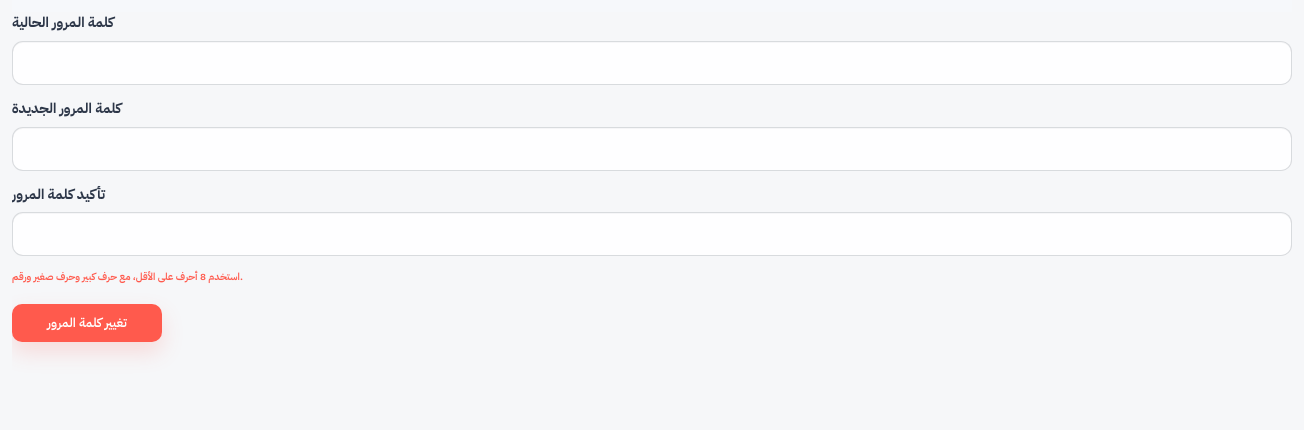
ChangePasswordForm › shows a specific Arabic error for an incorrect current password
In the password field labelled "كلمة المرور الحالية": (652, 63) [12, 41, 1292, 85], type "WrongPass123"
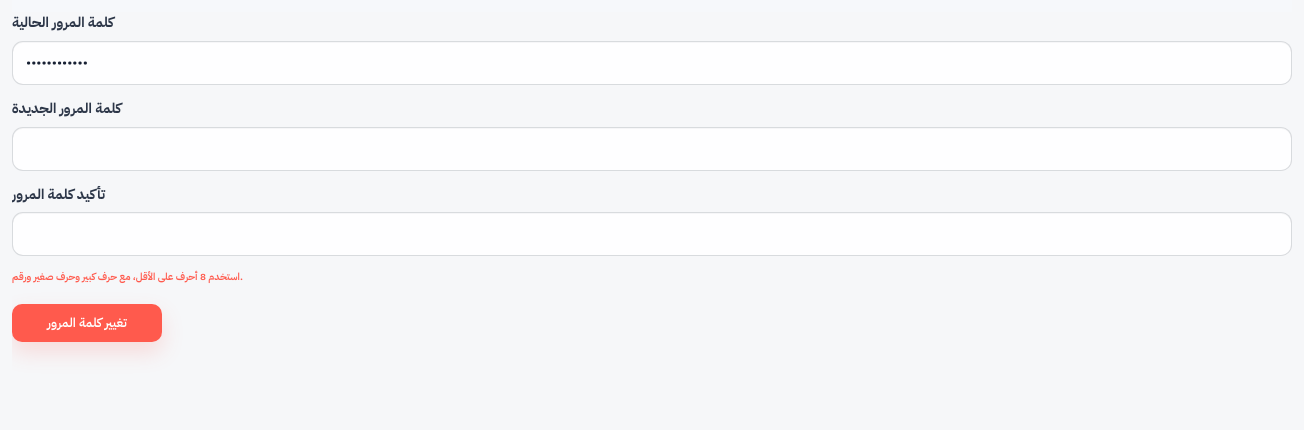
In the password field labelled "كلمة المرور الجديدة": (652, 149) [12, 126, 1292, 171], type "UpdatedPass456"
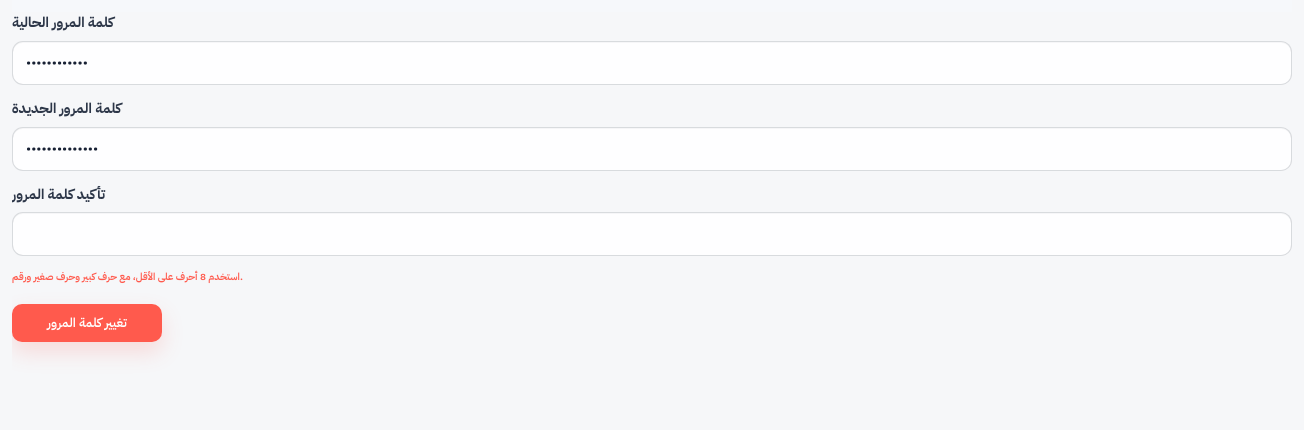
In the password field labelled "تأكيد كلمة المرور": (652, 234) [12, 212, 1292, 256], type "UpdatedPass456"
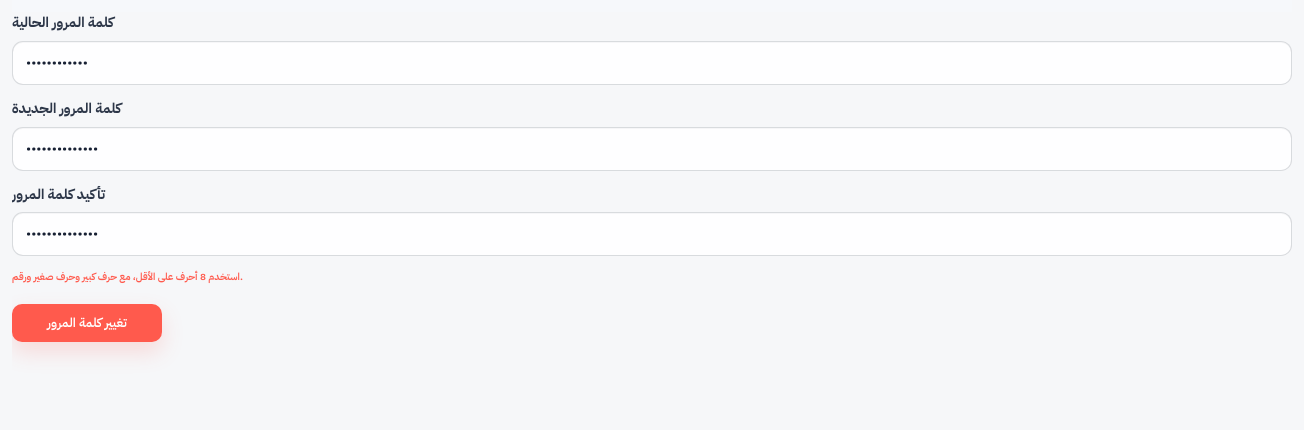
Click the button "تغيير كلمة المرور": (87, 323) [12, 304, 162, 342]
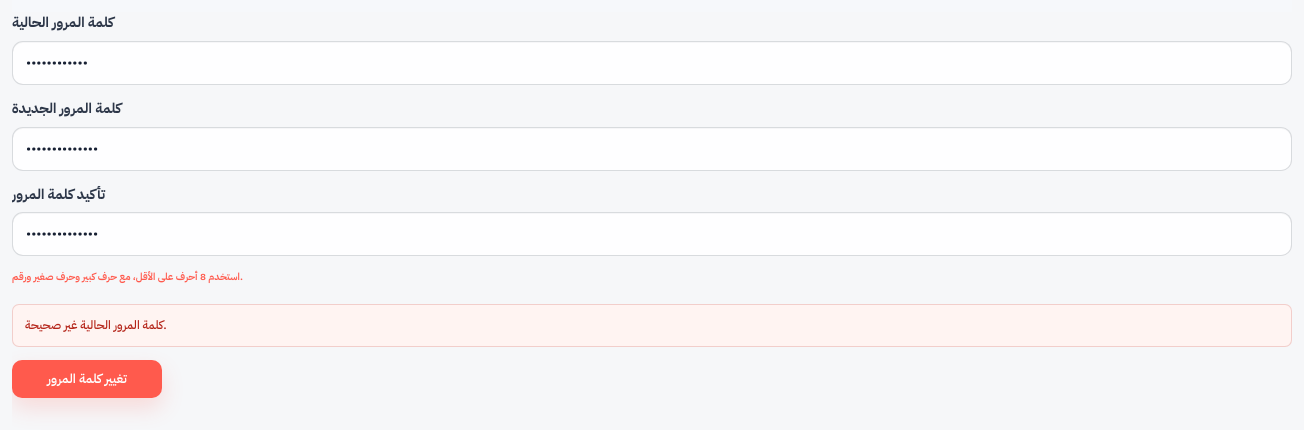
Now the message reads "كلمة المرور الحالية غير صحيحة.", box [25, 316, 167, 334]
